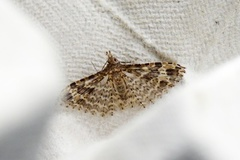Alucitidae: (57, 46, 186, 117)
moth: (58, 45, 187, 116)
